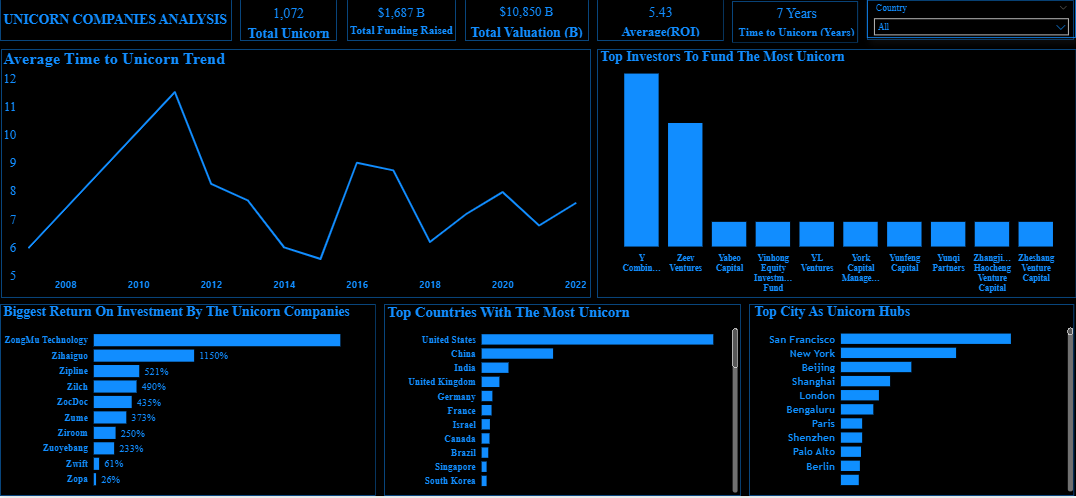

What the dashboard file says about the page in this screenshot:
{"tool":"powerbi","page":{"name":"Page 1","canvas":[1664,769],"ordinal":0},"visuals":[{"type":"textbox","box":[0,13.9,371.1,34.8],"z":0},{"type":"shape","box":[0,0,358.8,65],"z":1000},{"type":"shape","box":[371.2,0,150,65],"z":2000},{"type":"shape","box":[1340.8,1.5,320.1,61.9],"z":3000},{"type":"shape","box":[719.1,0,191.8,65],"z":4000},{"type":"shape","box":[923.2,0,196.4,65],"z":5000},{"type":"card","fields":{"Values":["Unicorn_Companies.Total Unicorn"]},"box":[366.5,1.5,159.3,65],"z":6000},{"type":"shape","box":[536.6,0,168.6,65],"z":7000},{"type":"card","fields":{"Values":["Unicorn_Companies.Total Funding Raised"]},"box":[533.5,0,174.8,61.9],"z":8000},{"type":"card","fields":{"Values":["Unicorn_Companies.Total Valuation (B)"]},"box":[716,0,196.4,65],"z":9000},{"type":"shape","box":[1.5,77.3,909.3,383.5],"z":10000},{"type":"shape","box":[593.8,471.7,552.1,296.9],"z":11000},{"type":"shape","box":[1161.4,471.7,502.6,296.9],"z":12000},{"type":"shape","box":[923.2,77.3,740.8,383.5],"z":13000},{"type":"shape","box":[0,472.2,581.4,296.8],"z":14000},{"type":"barChart","title":"Biggest Return On Investment By The Unicorn Companies","fields":{"Y":["Unicorn_Companies.Return On Investment(ROI)"],"Category":["Unicorn_Companies.Company"]},"box":[0,472.2,581.4,295.3],"z":15000},{"type":"lineChart","title":"Average Time to Unicorn Trend","fields":{"Y":["Unicorn_Companies.Average Time to Unicorn by Year"],"Category":["Unicorn_Companies.Date Joined.Variation.Date Hierarchy.Year"]},"box":[0,77.3,912.4,383.5],"z":16000},{"type":"barChart","title":"Top Countries With The Most Unicorn","fields":{"Category":["Unicorn_Companies.Country"],"Y":["Unicorn_Companies.Total Unicorn"]},"box":[593.8,471.7,552.1,296.9],"z":17000},{"type":"barChart","title":"Top City As Unicorn Hubs","fields":{"Category":["Unicorn_Companies.City"],"Y":["Unicorn_Companies.Total Unicorn"]},"box":[1161.4,471.7,502.6,295.4],"z":18000},{"type":"columnChart","title":"Top Investors To Fund The Most Unicorn","fields":{"Category":["Unicorn_Companies.Select Investors"],"Y":["Unicorn_Companies.Total Unicorn"]},"box":[923.2,77.3,737.7,383.5],"z":19000},{"type":"card","fields":{"Values":["Unicorn_Companies.Average(ROI)"]},"box":[923.2,0,196.4,63.4],"z":20000},{"type":"card","fields":{"Values":["Unicorn_Companies.Time to Unicorn (Text)"]},"box":[1134.4,3.6,193.2,59],"z":21000},{"type":"shape","box":[1132.6,3.6,195,64.4],"z":22000},{"type":"slicer","fields":{"Values":["Unicorn_Companies.Country"]},"box":[1340.8,0,323.2,60.3],"z":23000}]}

Visuals, with their boxes in screenshot pixels (x1, y1, x2, y2), scaled from the page's 1664x769 canvas onto the 1076x498 screenshot:
textbox: 0,9,240,32
shape: 0,0,232,42
shape: 240,0,337,42
shape: 867,1,1074,41
shape: 465,0,589,42
shape: 597,0,724,42
card - Unicorn_Companies.Total Unicorn: 237,1,340,43
shape: 347,0,456,42
card - Unicorn_Companies.Total Funding Raised: 345,0,458,40
card - Unicorn_Companies.Total Valuation (B): 463,0,590,42
shape: 1,50,589,298
shape: 384,305,741,497
shape: 751,305,1075,497
shape: 597,50,1075,298
shape: 0,306,376,497
"Biggest Return On Investment By The Unicorn Companies" barChart: 0,306,376,497
"Average Time to Unicorn Trend" lineChart: 0,50,590,298
"Top Countries With The Most Unicorn" barChart: 384,305,741,497
"Top City As Unicorn Hubs" barChart: 751,305,1075,497
"Top Investors To Fund The Most Unicorn" columnChart: 597,50,1074,298
card - Unicorn_Companies.Average(ROI): 597,0,724,41
card - Unicorn_Companies.Time to Unicorn (Text): 734,2,858,41
shape: 732,2,858,44
slicer - Unicorn_Companies.Country: 867,0,1075,39
